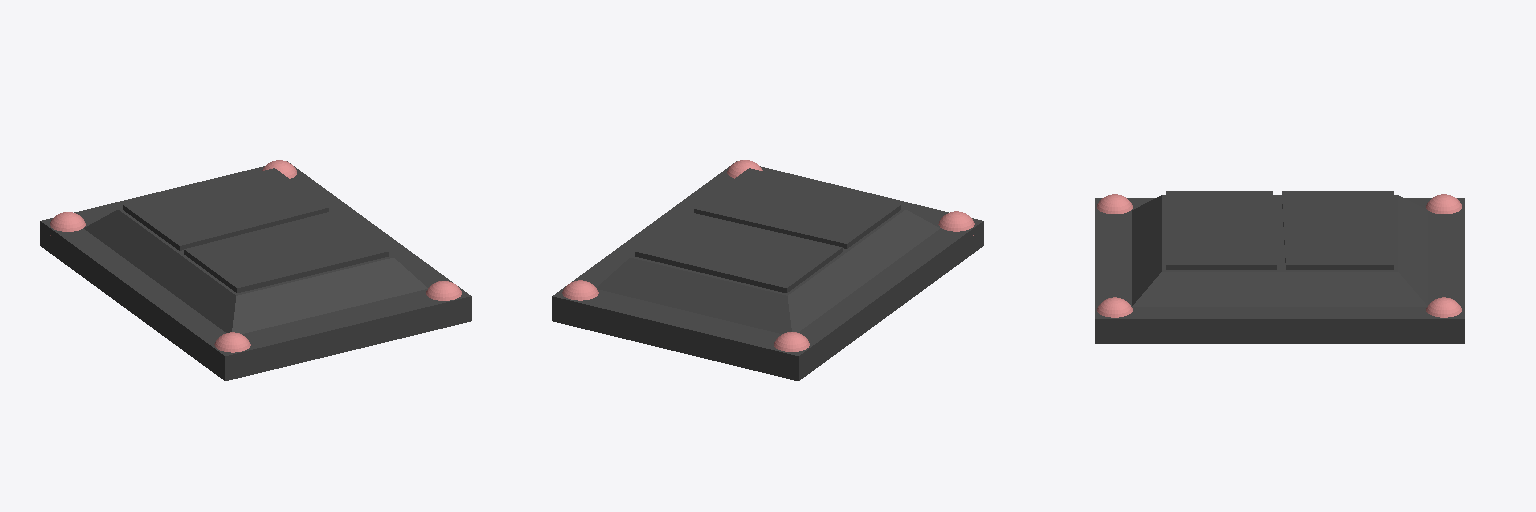
Rendered from WeaponBase.obj.
3 renders of one model, left to right at view 1: azimuth 30°, elevation 25°; view 2: azimuth 150°, elevation 25°; view 3: azimuth 270°, elevation 25°, orthographic.
Parts seen in each view (by area): view 1: Box001, Sphere001, Sphere004, Sphere002; view 2: Box001, Sphere003, Sphere001, Sphere004; view 3: Box001, Sphere001, Sphere002, Sphere004, Sphere003.
Boxes of the visible parts, <box> form: Box001: <box>40,161,471,380</box>; Sphere001: <box>214,332,250,352</box>; Sphere004: <box>50,212,85,235</box>; Sphere002: <box>426,281,461,300</box>; Box001: <box>552,161,983,380</box>; Sphere003: <box>562,280,598,300</box>; Sphere001: <box>938,211,974,235</box>; Sphere004: <box>774,332,809,351</box>; Box001: <box>1095,191,1464,343</box>; Sphere001: <box>1097,194,1132,213</box>; Sphere002: <box>1097,297,1132,317</box>; Sphere004: <box>1426,194,1461,213</box>; Sphere003: <box>1426,297,1461,317</box>.
Size of the model in its own units: 28.55 by 6.13 by 37.13.